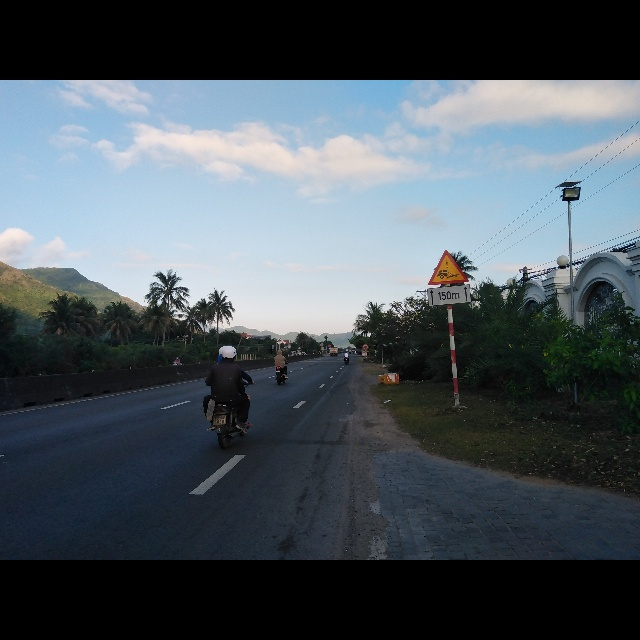Đoạn đường hay xảy ra tai nạn: (424, 247, 468, 286)
